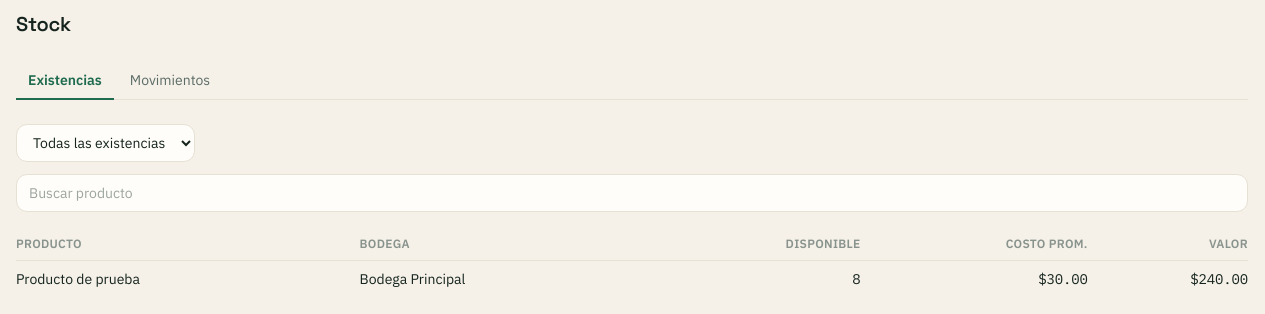
Test: StockPage › muestra existencias por defecto y cambia a movimientos
Expected: the text "Producto de prueba" is shown, [16,260,360,297]
What coordinates should you click on to do the following:
click the tab "Movimientos"
I would click on:
 (170, 81)
Its box is [118,62,222,100].
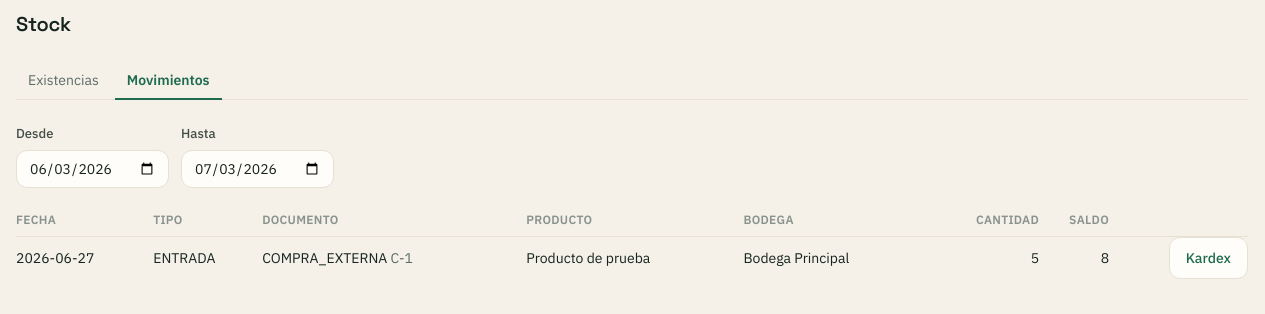
Now the text "COMPRA_EXTERNA" is shown, box [262,248,387,266]
